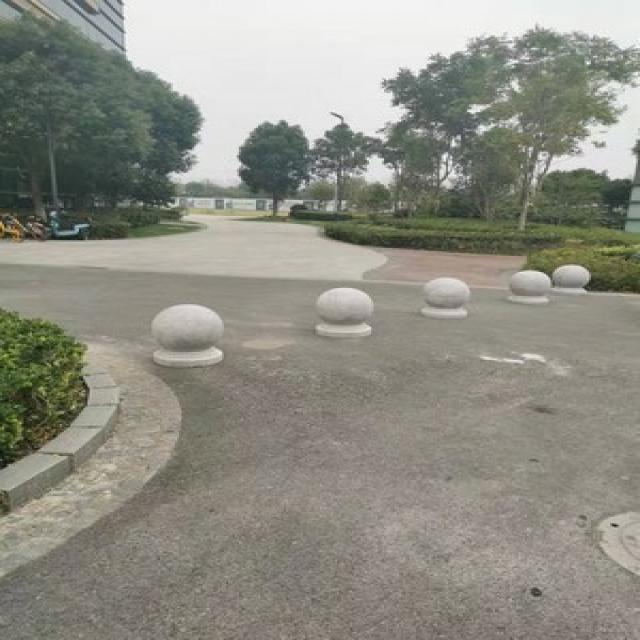spherical_roadblock: (145, 302, 226, 363), (314, 286, 373, 336), (418, 275, 469, 317), (502, 267, 552, 304), (548, 261, 591, 294)
